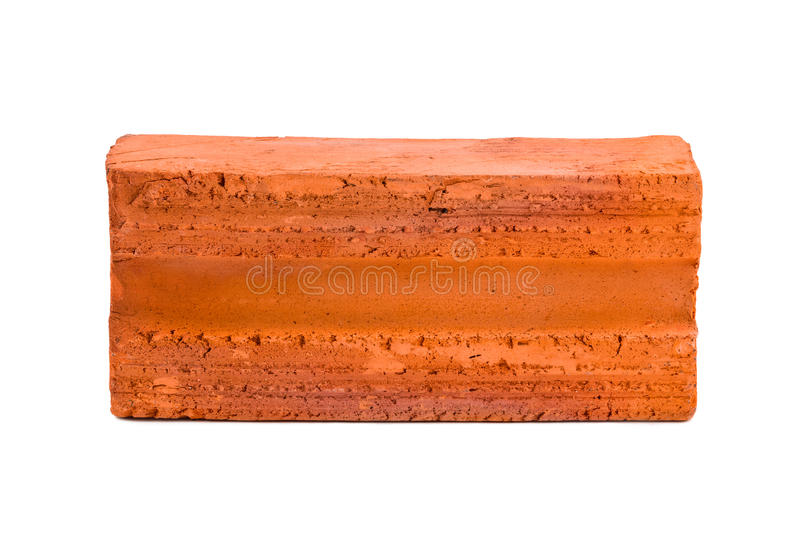brick: (113, 136, 697, 420)
